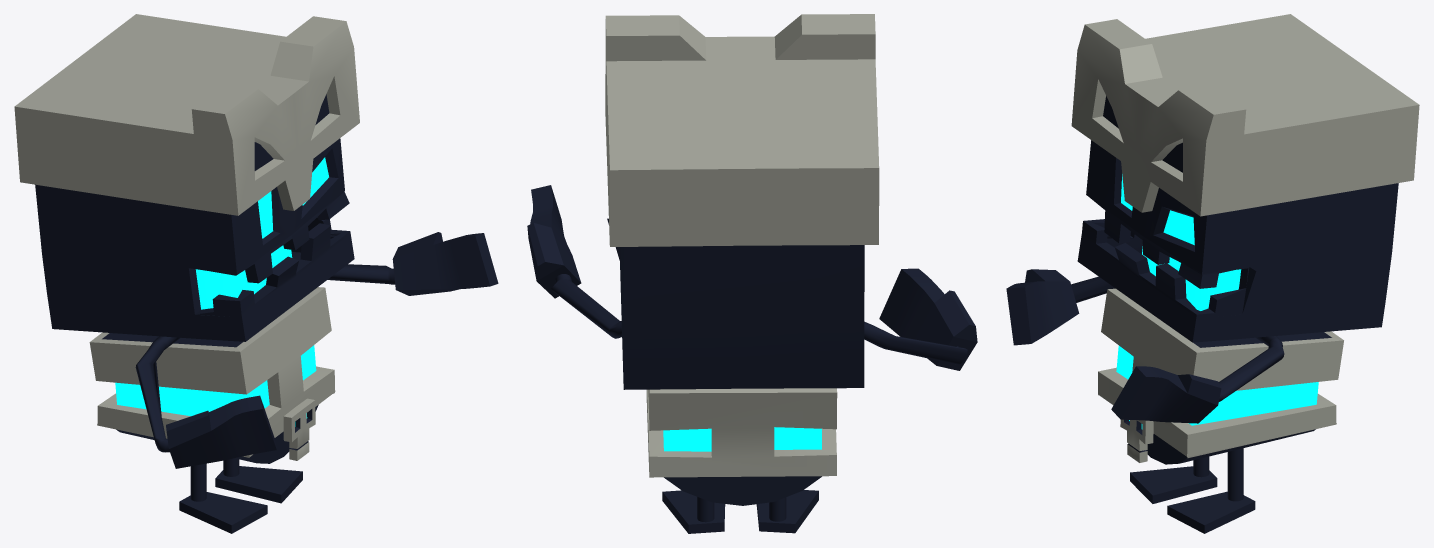
File: Creep_1.fbx
3 renders of one model, left to right at view 1: azimuth 30°, elevation 25°; view 2: azimuth 150°, elevation 25°; view 3: azimuth 270°, elevation 25°, orthographic. The views are drawn at different scales.
Visible parts, largest first — view 1: Creep_1; view 2: Creep_1; view 3: Creep_1.
Boxes of the visible parts, bbox=[...] form: Creep_1: bbox=[14, 14, 498, 533]; Creep_1: bbox=[527, 14, 977, 533]; Creep_1: bbox=[1006, 14, 1419, 533].
Bounding box in the file's own units: 105 × 111 × 94.05.
